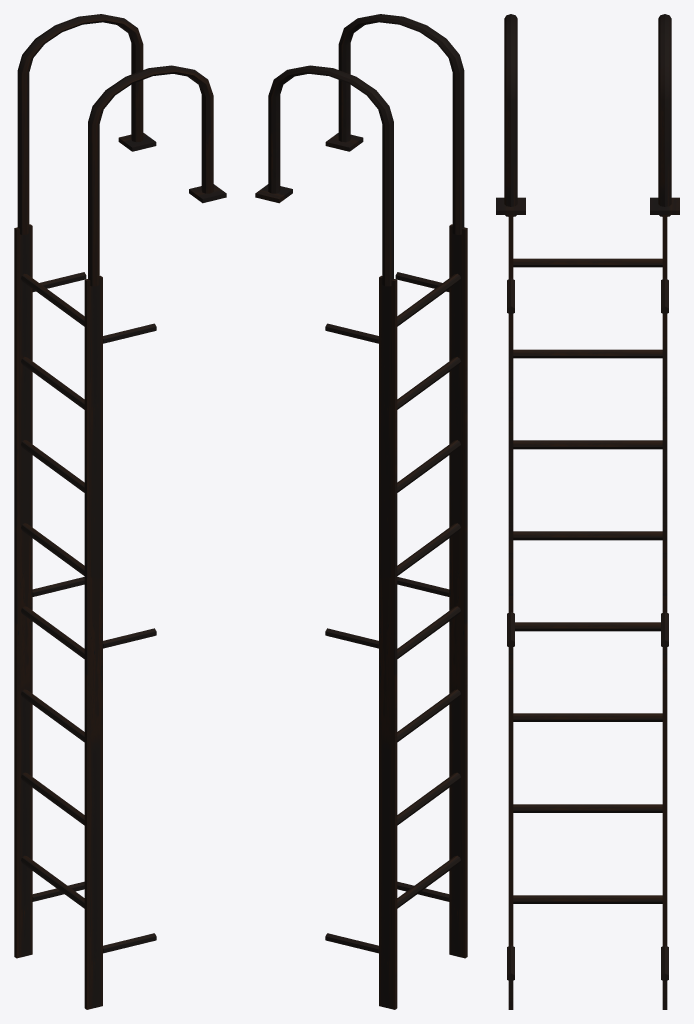
Rendered from SM_Banchina_Scaletta.fbx.
3 renders of one model, left to right at view 1: azimuth 30°, elevation 25°; view 2: azimuth 150°, elevation 25°; view 3: azimuth 270°, elevation 25°, orthographic. The views are drawn at different scales.
Parts seen in each view (by area): view 1: SM_Banchina_Scaletta; view 2: SM_Banchina_Scaletta; view 3: SM_Banchina_Scaletta.
Part boxes in pixels (<box>): SM_Banchina_Scaletta: <box>14,14,226,1009</box>; SM_Banchina_Scaletta: <box>255,14,467,1009</box>; SM_Banchina_Scaletta: <box>496,14,679,1009</box>.
Size of what is drawn, in the model's own units: 50.5 by 55 by 334.
1 material, 1 textured.
